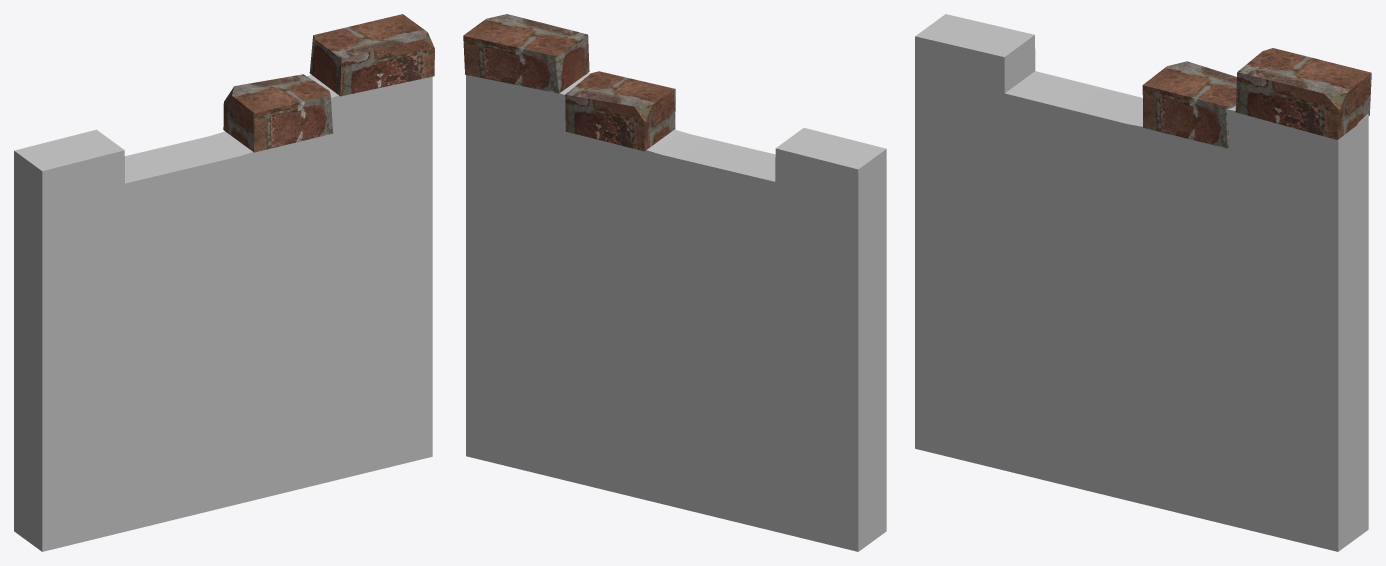
File: SM_Wall_Ruined_19.fbx
3 renders of one model, left to right at view 1: azimuth 30°, elevation 25°; view 2: azimuth 150°, elevation 25°; view 3: azimuth 330°, elevation 25°, orthographic. The views are drawn at different scales.
Visible parts, largest first — view 1: SM_Wall_Ruined_19_LOD1; view 2: SM_Wall_Ruined_19_LOD1; view 3: SM_Wall_Ruined_19_LOD1.
Part boxes in pixels (<box>): SM_Wall_Ruined_19_LOD1: <box>14,14,434,551</box>; SM_Wall_Ruined_19_LOD1: <box>463,14,886,551</box>; SM_Wall_Ruined_19_LOD1: <box>915,14,1371,551</box>.
Size of what is drawn, in the model's own units: 402 by 413 by 56.69.
